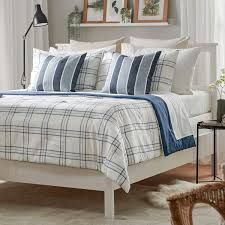bed-matress: (1, 83, 214, 169)
